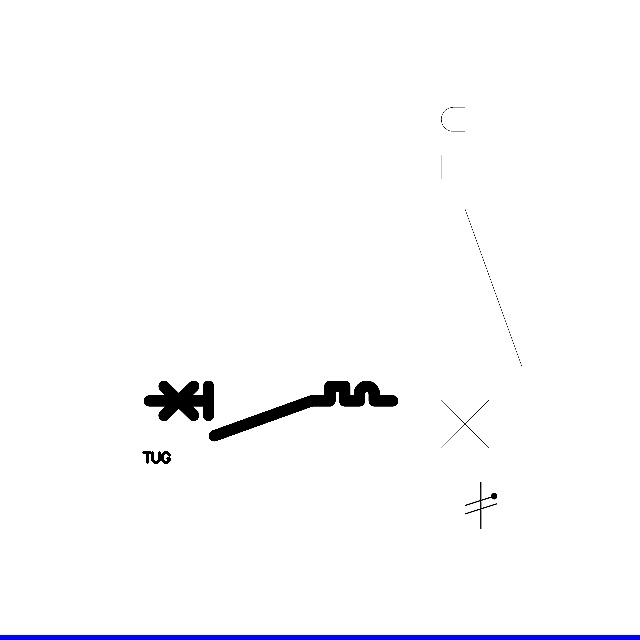interruptor_termomagnetico: (431, 67, 532, 481), (143, 380, 399, 442)
